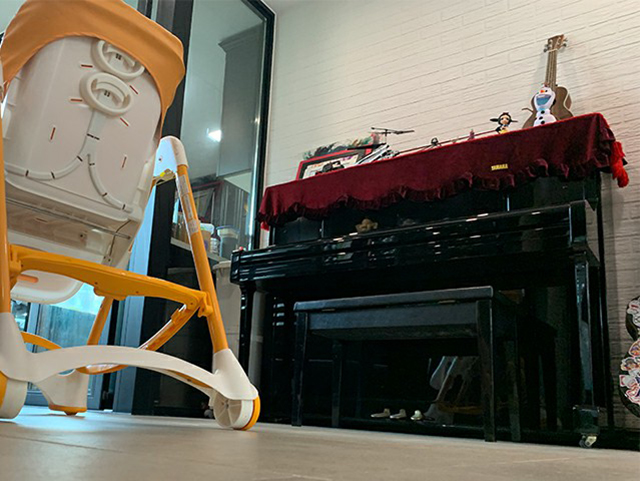stool: (290, 284, 523, 444)
